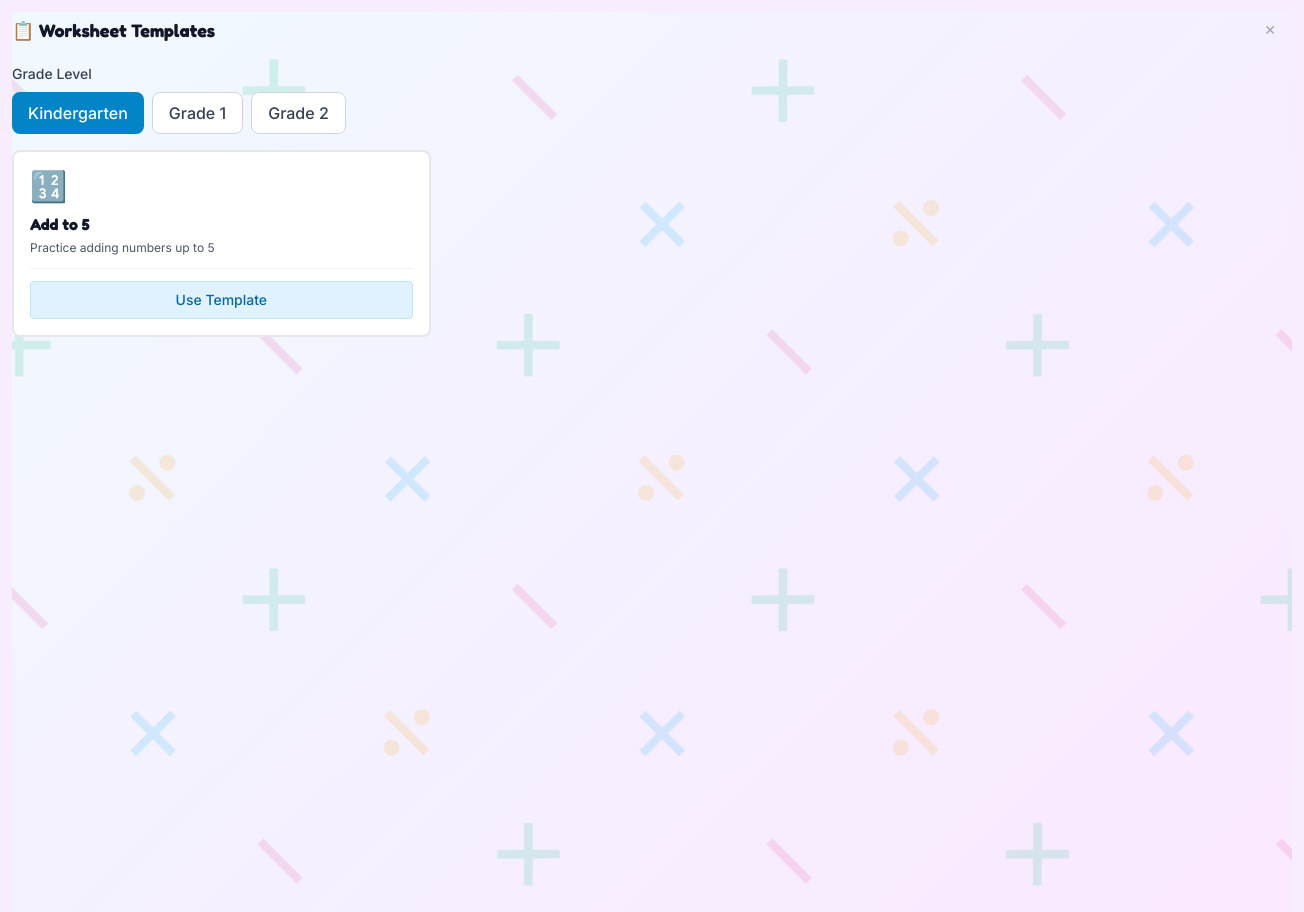
Test: TemplateSection Component › should filter templates by grade level
Expected: the heading "Add to 5" is shown, [30,214,90,234]
// Click on Grade 1 tab
Click the button "Grade 1". click: (198, 113)
box: [152,92,243,134]
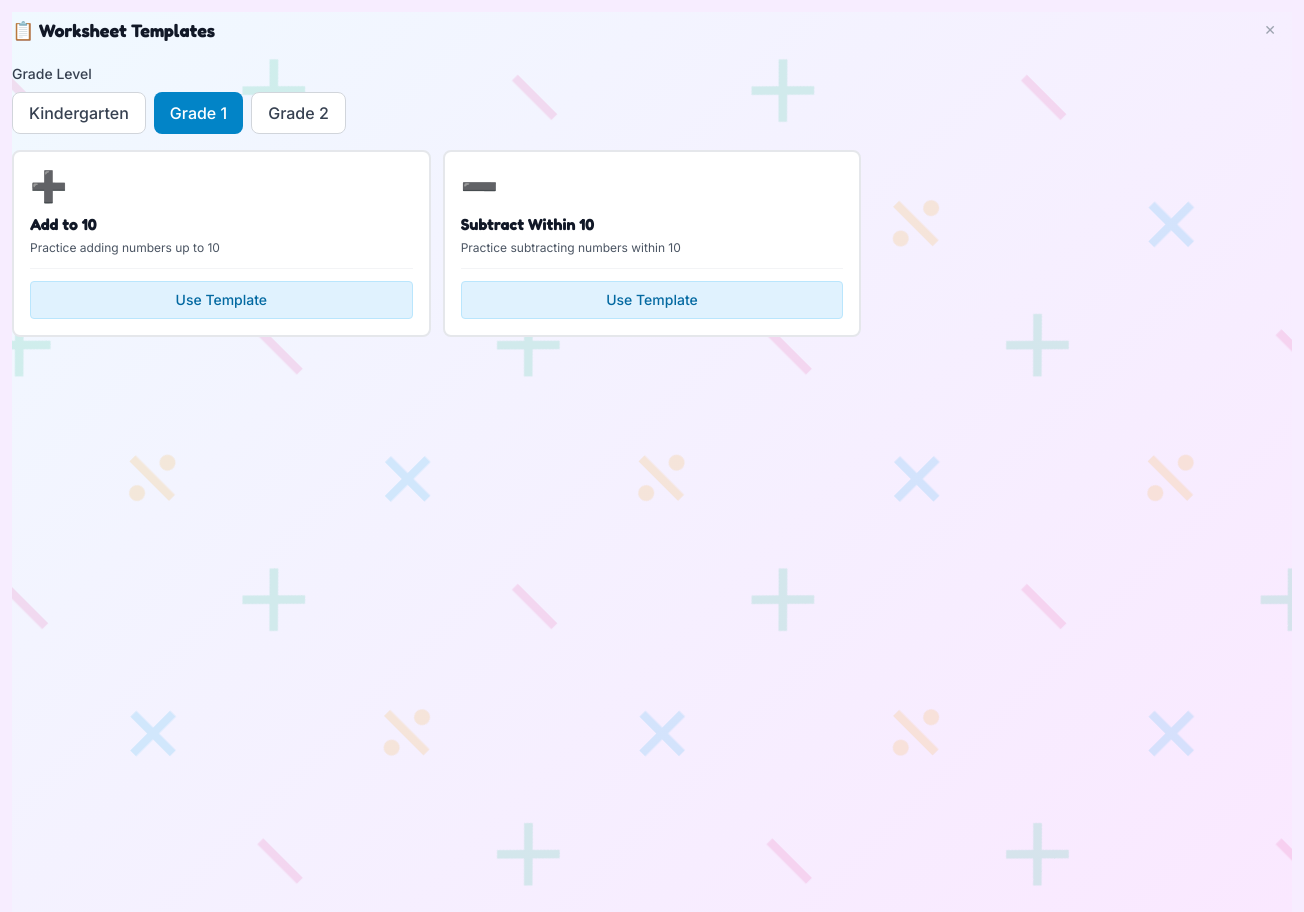
Now the heading "Add to 10" is shown, box [30,214,97,234]
Now the heading "Subtract Within 10" is shown, box [461,214,594,234]
Now the heading "Add to 5" is gone
